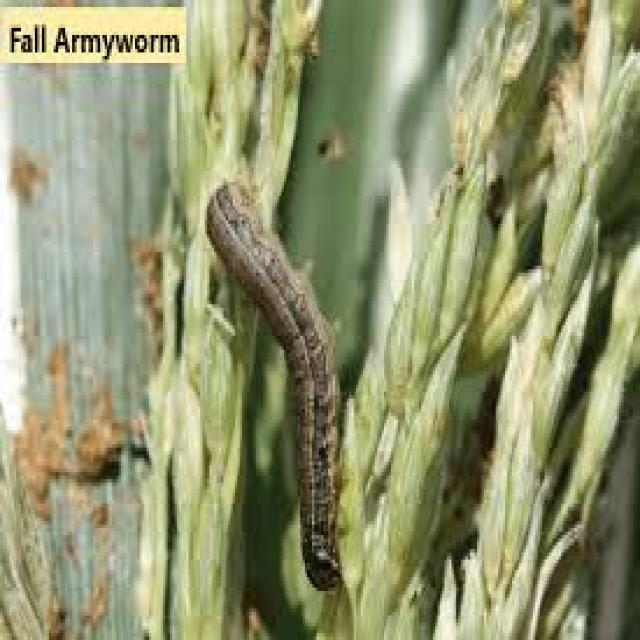Army Worm: (200, 174, 361, 612)
